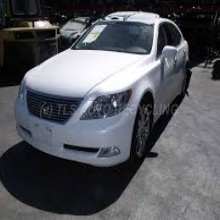no damage: (14, 11, 191, 169)
